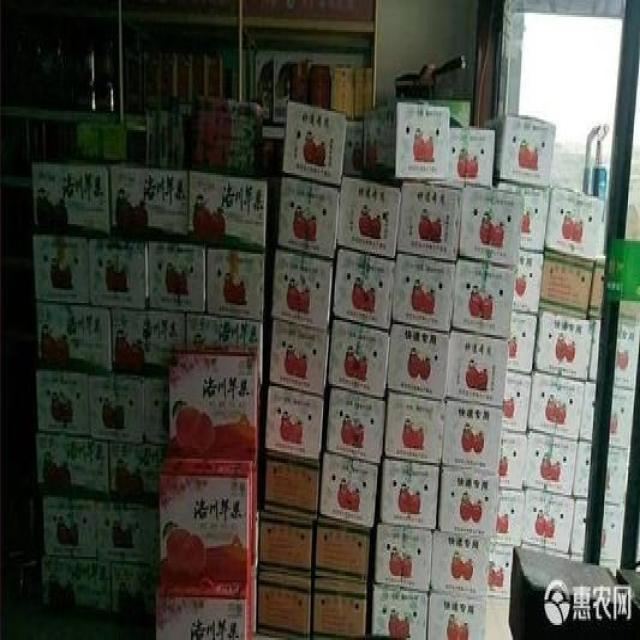Carton: (28, 100, 599, 638)
